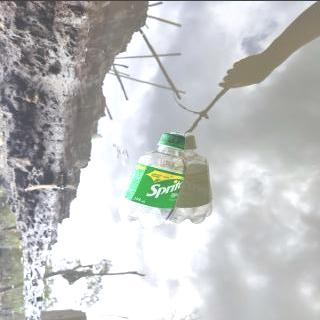bottle: (116, 130, 188, 228)
